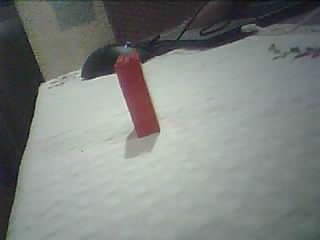lego: (112, 53, 160, 138)
